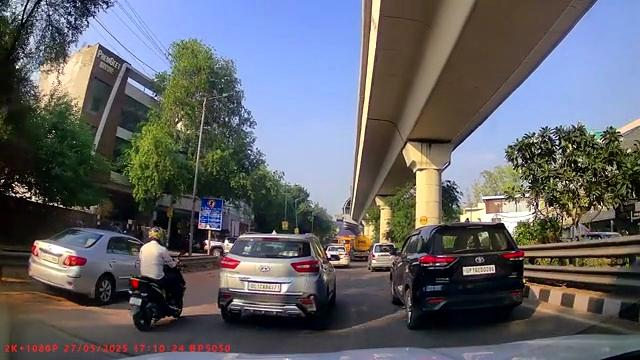motorcycle_with_helmet: (128, 225, 187, 332)
